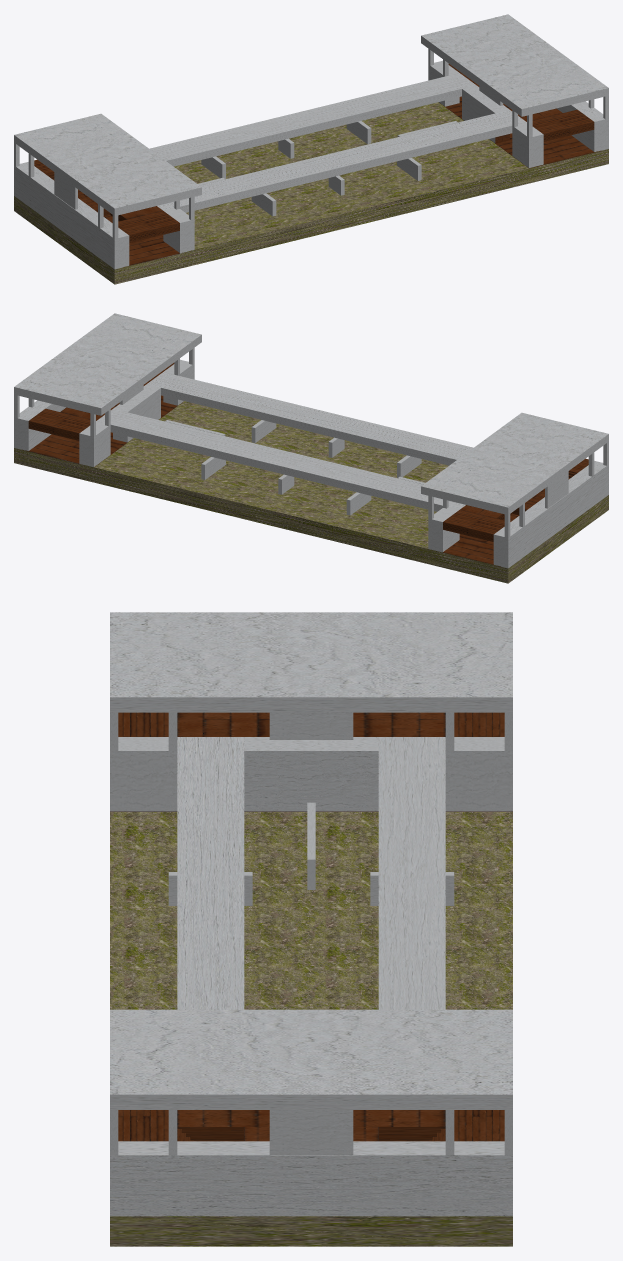
The model's file is Plopmap.gltf.
The picture shows the model from 3 angles, top to bottom: view 1: azimuth 30°, elevation 25°; view 2: azimuth 150°, elevation 25°; view 3: azimuth 270°, elevation 25°; orthographic projection. The views are drawn at different scales.
Parts seen in each view (by area): view 1: Ground, Ceil, Ceil1, Passerelle1, Passerelle2, Wall8, Floor_concrete, top-escalier1, top-escalier2, Wall1, Wall3, Wall2 (+6 smaller); view 2: Ground, Ceil, Ceil1, Passerelle2, Passerelle1, Wall8, Floor_concrete, top-escalier, top-escalier3, Wall1, Wall4, Wall2 (+6 smaller); view 3: Ground, Ceil, Ceil1, Wall1, Passerelle1, Passerelle2, Wall5, Floor1, Wall6, Wall7, Floor3, Colone2 (+5 smaller).
Boxes of the visible parts, x1,y1,x2,y2 form: Ground: [14, 102, 608, 284]; Ceil: [421, 14, 608, 116]; Ceil1: [14, 113, 201, 215]; Passerelle1: [157, 110, 526, 212]; Passerelle2: [149, 73, 475, 166]; Wall8: [14, 162, 129, 269]; Floor_concrete: [439, 96, 601, 168]; top-escalier1: [532, 109, 594, 141]; top-escalier2: [118, 211, 179, 242]; Wall1: [557, 101, 608, 151]; Wall3: [512, 122, 543, 167]; Wall2: [462, 85, 509, 143]; Ground: [14, 401, 608, 583]; Ceil: [14, 313, 201, 415]; Ceil1: [421, 412, 608, 514]; Passerelle2: [96, 409, 465, 511]; Passerelle1: [147, 372, 473, 465]; Wall8: [493, 461, 608, 568]; Floor_concrete: [22, 395, 183, 466]; top-escalier: [28, 408, 90, 440]; top-escalier3: [443, 510, 504, 541]; Wall1: [14, 400, 65, 450]; Wall4: [79, 421, 110, 467]; Wall2: [113, 384, 160, 442]; Ground: [110, 812, 512, 1246]; Ceil: [110, 1009, 512, 1109]; Ceil1: [110, 612, 512, 712]; Wall1: [110, 1141, 512, 1216]; Passerelle1: [177, 737, 244, 1009]; Passerelle2: [378, 737, 445, 1009]; Wall5: [244, 737, 378, 811]; Floor1: [177, 1110, 445, 1141]; Wall6: [445, 737, 512, 811]; Wall7: [110, 737, 177, 811]; Floor3: [177, 712, 445, 736]; Colone2: [269, 1110, 353, 1154].
Size of what is drawn, in the model's own units: 136 by 20 by 48.
3 materials, 3 textured.
